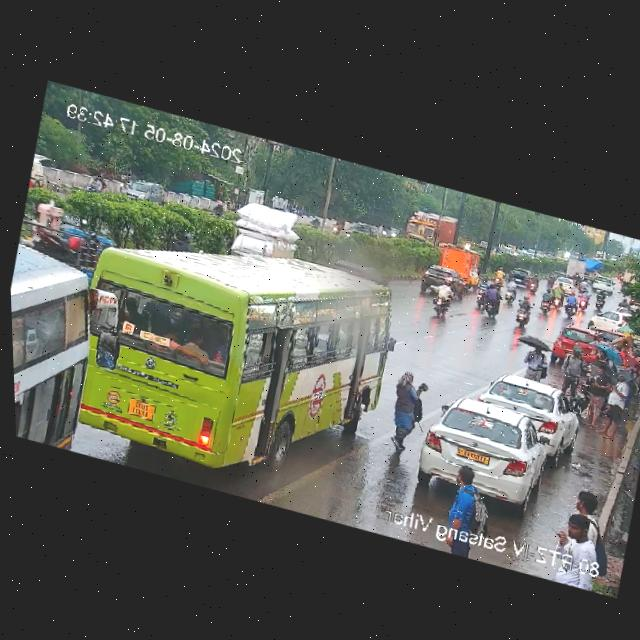bus: (68, 211, 407, 509), (9, 237, 115, 454)
car: (411, 386, 557, 510), (478, 368, 580, 449), (22, 199, 119, 277), (546, 318, 607, 362), (582, 301, 638, 339), (416, 261, 465, 301), (114, 172, 164, 205), (342, 218, 378, 247), (588, 271, 617, 295), (549, 274, 576, 294), (505, 265, 530, 286)
motorcycle: (424, 280, 459, 322), (510, 294, 536, 327), (78, 171, 108, 198), (482, 284, 505, 319), (498, 276, 519, 307), (472, 275, 490, 309), (548, 279, 567, 310), (559, 290, 580, 317), (536, 286, 554, 316), (590, 284, 610, 310), (525, 269, 541, 295), (575, 288, 591, 313), (491, 264, 506, 289), (328, 217, 345, 238)
person: (542, 478, 619, 591), (432, 459, 501, 563), (379, 367, 433, 457), (554, 344, 599, 401), (578, 362, 615, 430), (598, 368, 632, 442), (519, 342, 556, 385)
truck: (222, 196, 305, 272), (399, 203, 460, 256), (438, 242, 486, 287), (577, 256, 606, 282), (562, 254, 588, 280)
